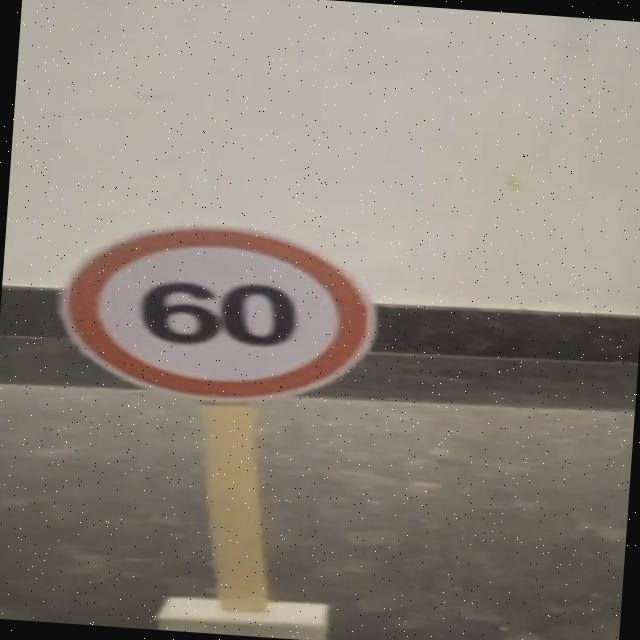Speed60: (49, 210, 388, 416)
